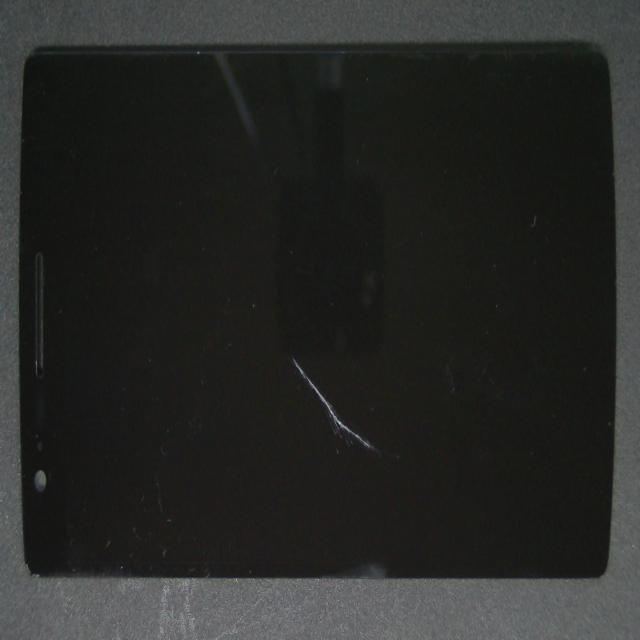scratch: (240, 292, 533, 608)
